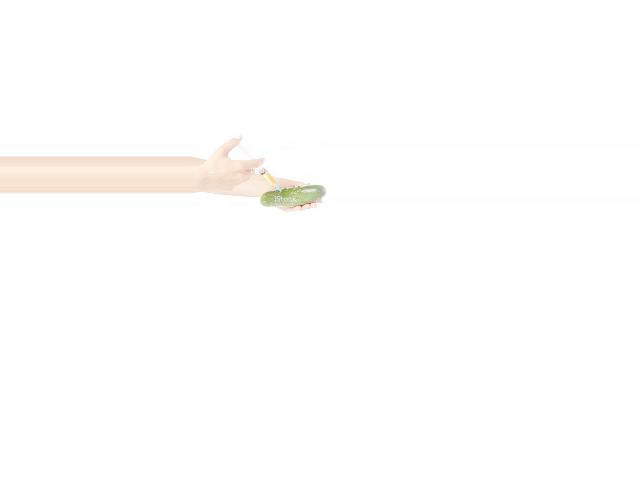cucumber: (260, 185, 327, 206)
